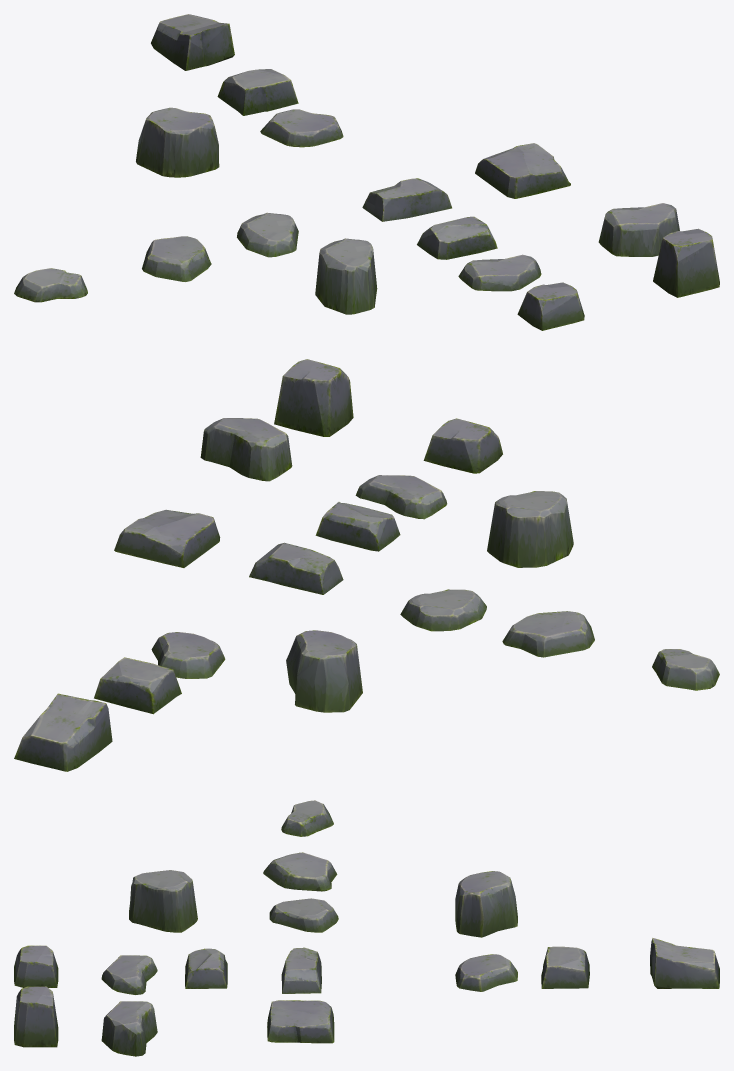
The model's file is rocksQuaternius.glb.
3 views of the same model, one above another, from view 1: azimuth 30°, elevation 25°; view 2: azimuth 150°, elevation 25°; view 3: azimuth 270°, elevation 25° (orthographic). The views are drawn at different scales.
Parts seen in each view (by area): view 1: Pebble_Round_2.001, Pebble_Round_4.001, Pebble_Square_4.001, Pebble_Square_1, Pebble_Square_5, Pebble_Round_1-col.001, Pebble_Square_3, Pebble_Square_6, Pebble_Round_3, Pebble_Square_2, Pebble_Square_4, Pebble_Round_1-col (+3 smaller); view 2: Pebble_Round_4.001, Pebble_Round_2.001, Pebble_Square_5, Pebble_Square_4.001, Pebble_Round_1-col.001, Pebble_Square_1, Pebble_Square_3, Pebble_Round_3, Pebble_Square_6, Pebble_Square_4, Pebble_Square_2, Pebble_Round_4 (+3 smaller); view 3: Pebble_Round_4.001, Pebble_Round_2.001, Pebble_Square_5, Pebble_Square_1, Pebble_Square_4.001, Pebble_Round_1-col.001, Pebble_Round_3, Pebble_Square_3, Pebble_Round_2, Pebble_Round_4, Pebble_Square_4, Pebble_Square_6 (+3 smaller).
Boxes of the visible parts, box(x1,y1,x2,y2) form: Pebble_Round_2.001: box(136, 107, 219, 177); Pebble_Round_4.001: box(315, 238, 377, 314); Pebble_Square_4.001: box(653, 228, 719, 297); Pebble_Square_1: box(475, 143, 570, 198); Pebble_Square_5: box(151, 14, 234, 70); Pebble_Round_1-col.001: box(598, 203, 679, 256); Pebble_Square_3: box(217, 69, 298, 115); Pebble_Square_6: box(362, 178, 451, 221); Pebble_Round_3: box(142, 236, 211, 281); Pebble_Square_2: box(417, 216, 497, 259); Pebble_Square_4: box(517, 282, 584, 330); Pebble_Round_1-col: box(458, 254, 541, 291); Pebble_Round_4.001: box(487, 491, 573, 567); Pebble_Round_2.001: box(286, 630, 362, 712); Pebble_Square_5: box(14, 693, 112, 771); Pebble_Square_4.001: box(274, 359, 353, 436); Pebble_Round_1-col.001: box(200, 418, 292, 481); Pebble_Square_1: box(114, 509, 220, 567); Pebble_Square_3: box(94, 657, 181, 714); Pebble_Round_3: box(502, 611, 594, 657); Pebble_Square_6: box(249, 542, 343, 594); Pebble_Square_4: box(423, 418, 502, 473); Pebble_Square_2: box(315, 502, 400, 551); Pebble_Round_4: box(400, 589, 486, 631); Pebble_Round_4.001: box(129, 870, 197, 932); Pebble_Round_2.001: box(455, 871, 517, 937); Pebble_Square_5: box(650, 938, 719, 988); Pebble_Square_1: box(267, 1000, 334, 1043); Pebble_Square_4.001: box(14, 986, 58, 1047); Pebble_Round_1-col.001: box(101, 1001, 157, 1056); Pebble_Round_3: box(263, 852, 337, 891); Pebble_Square_3: box(541, 946, 589, 988); Pebble_Round_2: box(455, 954, 517, 991); Pebble_Round_4: box(269, 898, 338, 932); Pebble_Square_4: box(14, 945, 58, 987); Pebble_Square_6: box(281, 947, 321, 993).
Bounding box in the file's own units: 3.82 × 0.3095 × 4.62.
11 materials, 11 textured.
